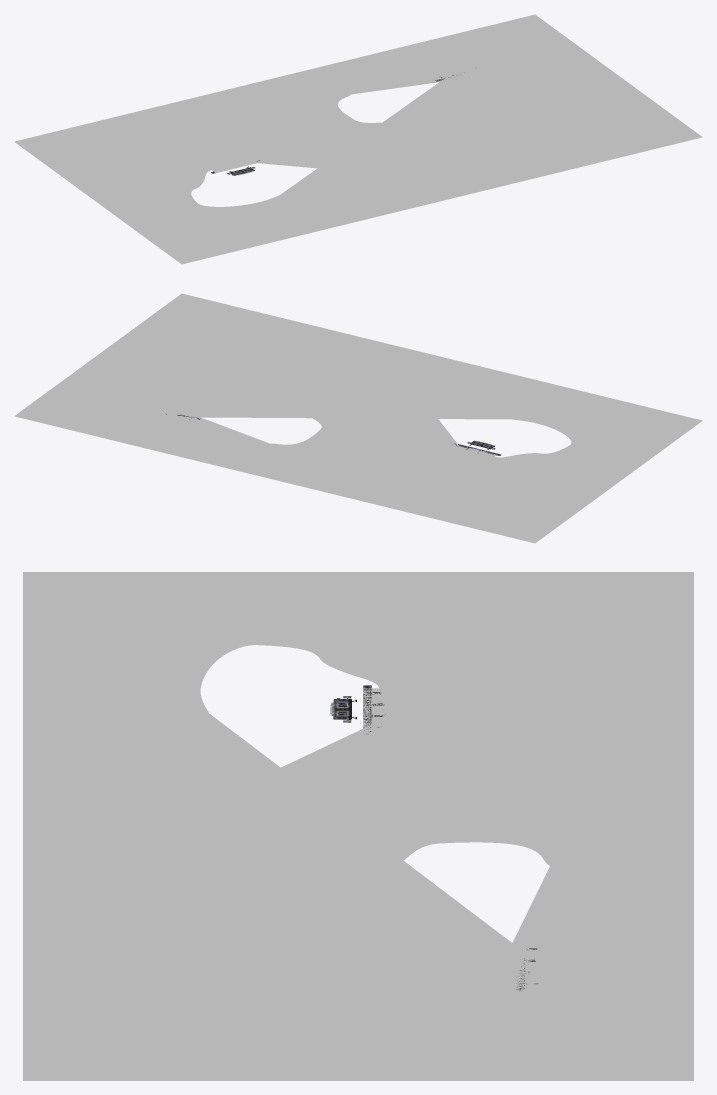
Rendered from gameobjs.mtl.obj.
3 views of the same model, one above another, from view 1: azimuth 30°, elevation 25°; view 2: azimuth 150°, elevation 25°; view 3: azimuth 270°, elevation 25° (orthographic). The views are drawn at different scales.
Parts seen in each view (by area): view 1: Plane; view 2: Plane; view 3: Plane.
Part boxes in pixels (x1,y1,x2,y2): Plane: (14,14,702,264); Plane: (14,293,702,543); Plane: (23,572,693,1080).
Bounding box in the file's own units: 29.66 × 3e-06 × 16.54.
